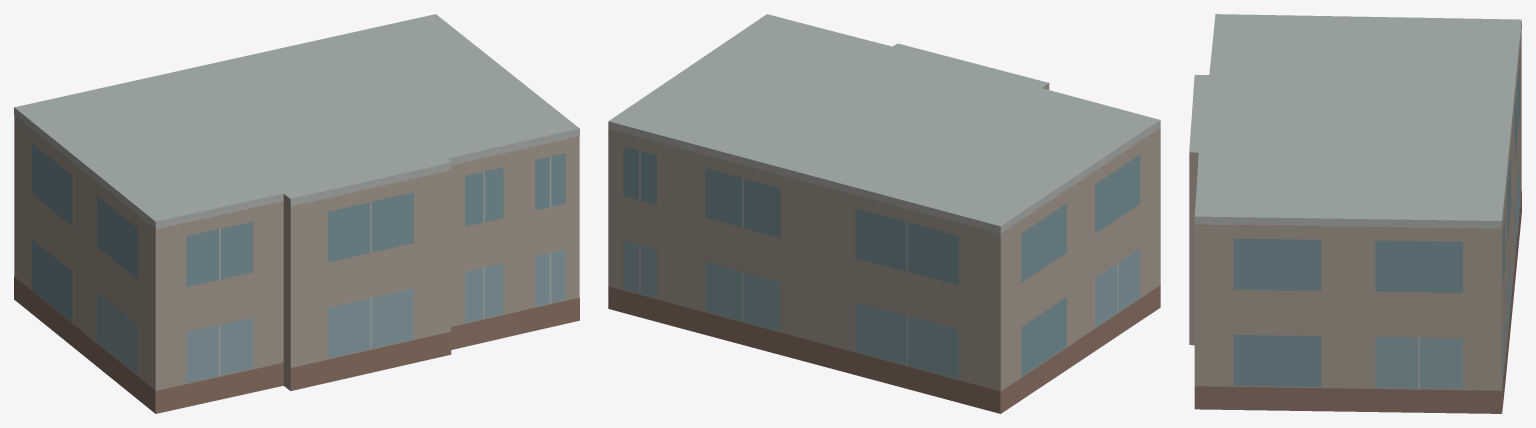
Rendered from survey-upis-32988239.glb.
3 renders of one model, left to right at view 1: azimuth 30°, elevation 25°; view 2: azimuth 150°, elevation 25°; view 3: azimuth 270°, elevation 25°, orthographic. The views are drawn at different scales.
Visible parts, largest first — view 1: survey-upis-32988239.tmp; view 2: survey-upis-32988239.tmp; view 3: survey-upis-32988239.tmp.
Part boxes in pixels (box(x1,y1,x2,y2)): survey-upis-32988239.tmp: box(14, 14, 579, 413); survey-upis-32988239.tmp: box(608, 14, 1160, 413); survey-upis-32988239.tmp: box(1189, 14, 1521, 413).
Bounding box in the file's own units: 14.07 × 6.1 × 9.55.
